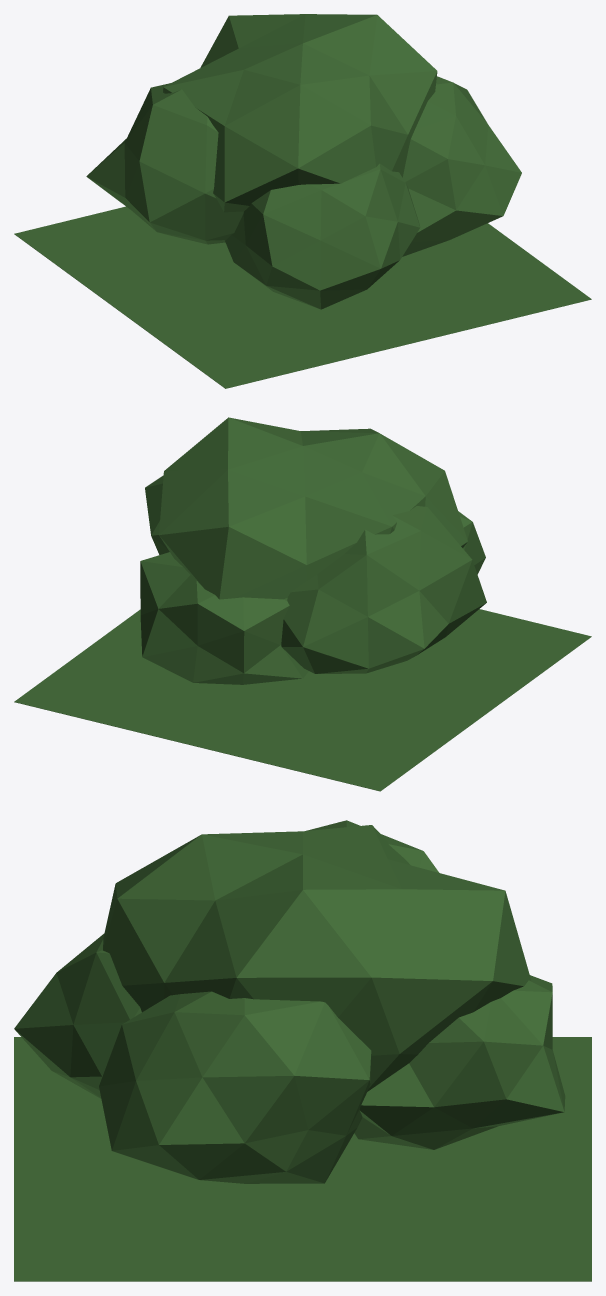
3 renders of one model, top to bottom at view 1: azimuth 30°, elevation 25°; view 2: azimuth 150°, elevation 25°; view 3: azimuth 270°, elevation 25°, orthographic. The views are drawn at different scales.
Parts seen in each view (by area): view 1: Foliage, Footprint; view 2: Foliage, Footprint; view 3: Foliage, Footprint.
Boxes of the visible parts, bbox=[...] form: Foliage: bbox=[86, 14, 521, 309]; Footprint: bbox=[14, 206, 591, 388]; Foliage: bbox=[140, 417, 486, 684]; Footprint: bbox=[14, 609, 591, 791]; Foliage: bbox=[14, 820, 565, 1183]; Footprint: bbox=[14, 1037, 591, 1281].
Bounding box in the file's own units: 1.59 × 0.9672 × 1.59.
